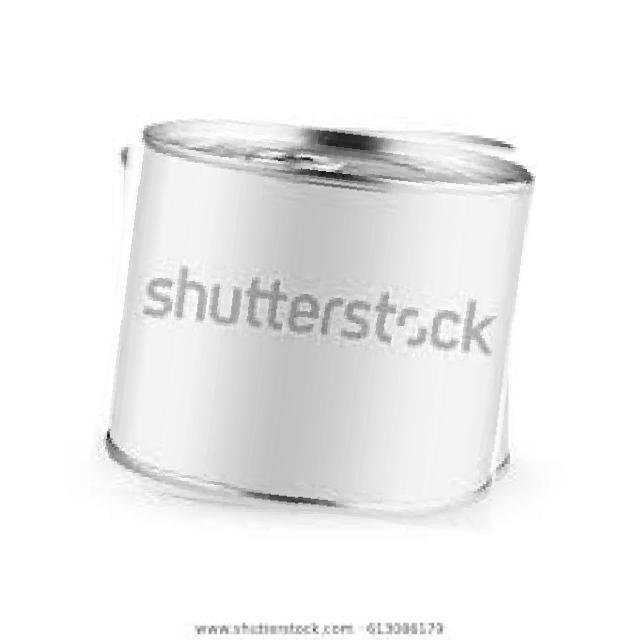recyclable: (98, 117, 527, 524)
